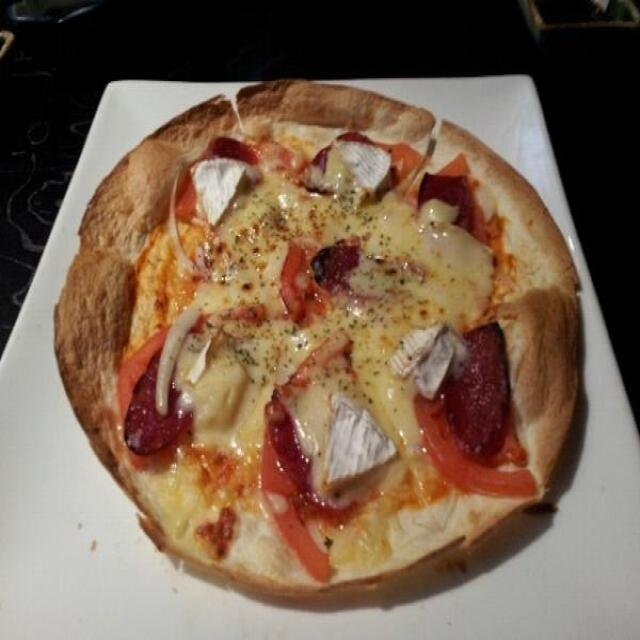Pizza: (51, 75, 596, 600)
